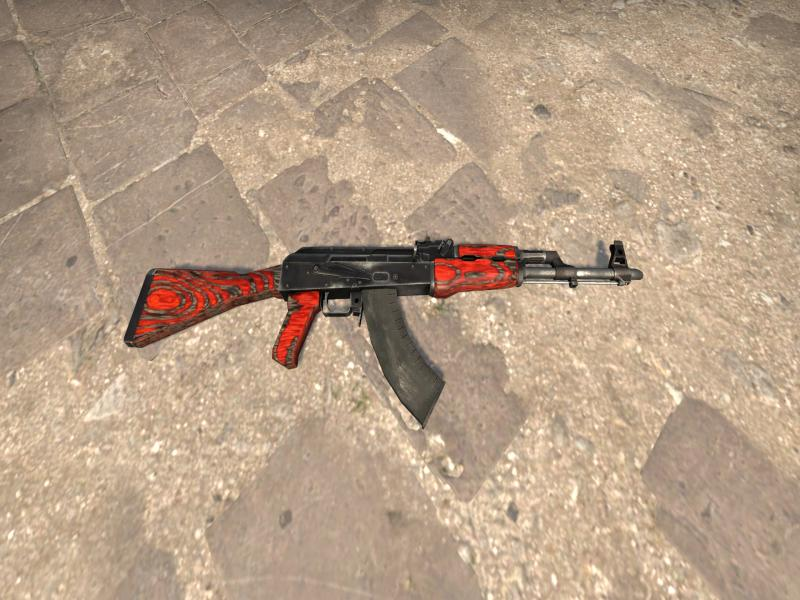AK47: (124, 239, 644, 424)
